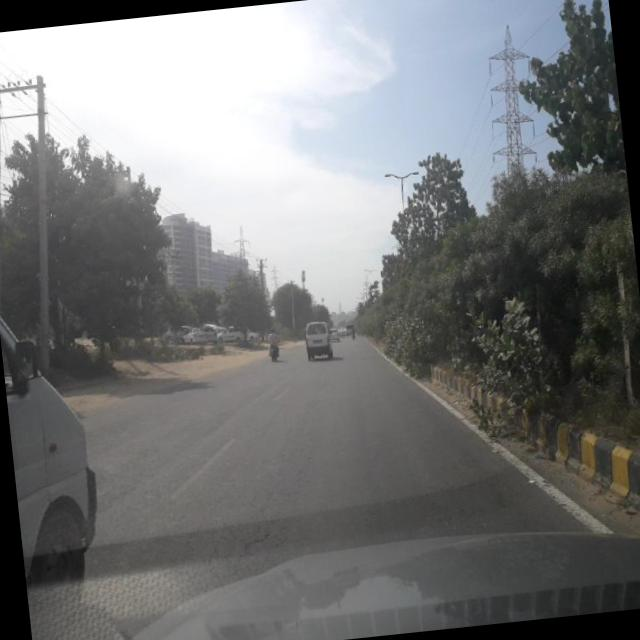crack: (92, 347, 346, 618), (382, 379, 547, 540)
